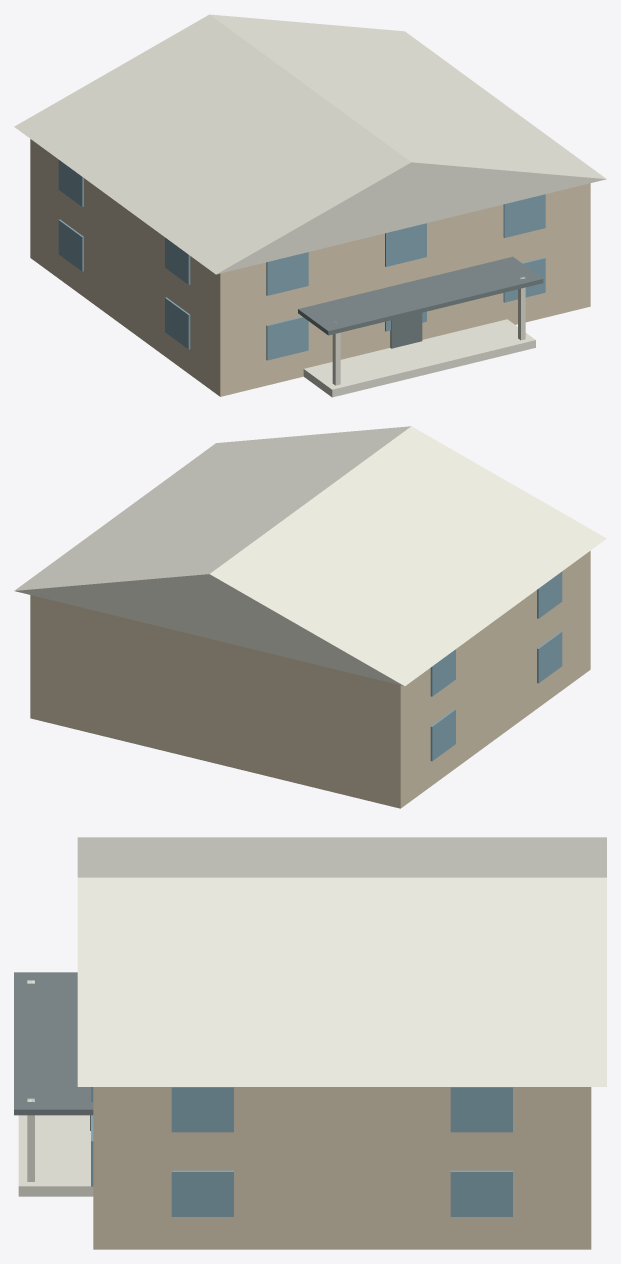
3 views of the same model, one above another, from view 1: azimuth 30°, elevation 25°; view 2: azimuth 150°, elevation 25°; view 3: azimuth 270°, elevation 25° (orthographic). The views are drawn at different scales.
Size of the model in its own units: 19 by 9 by 19.05.
